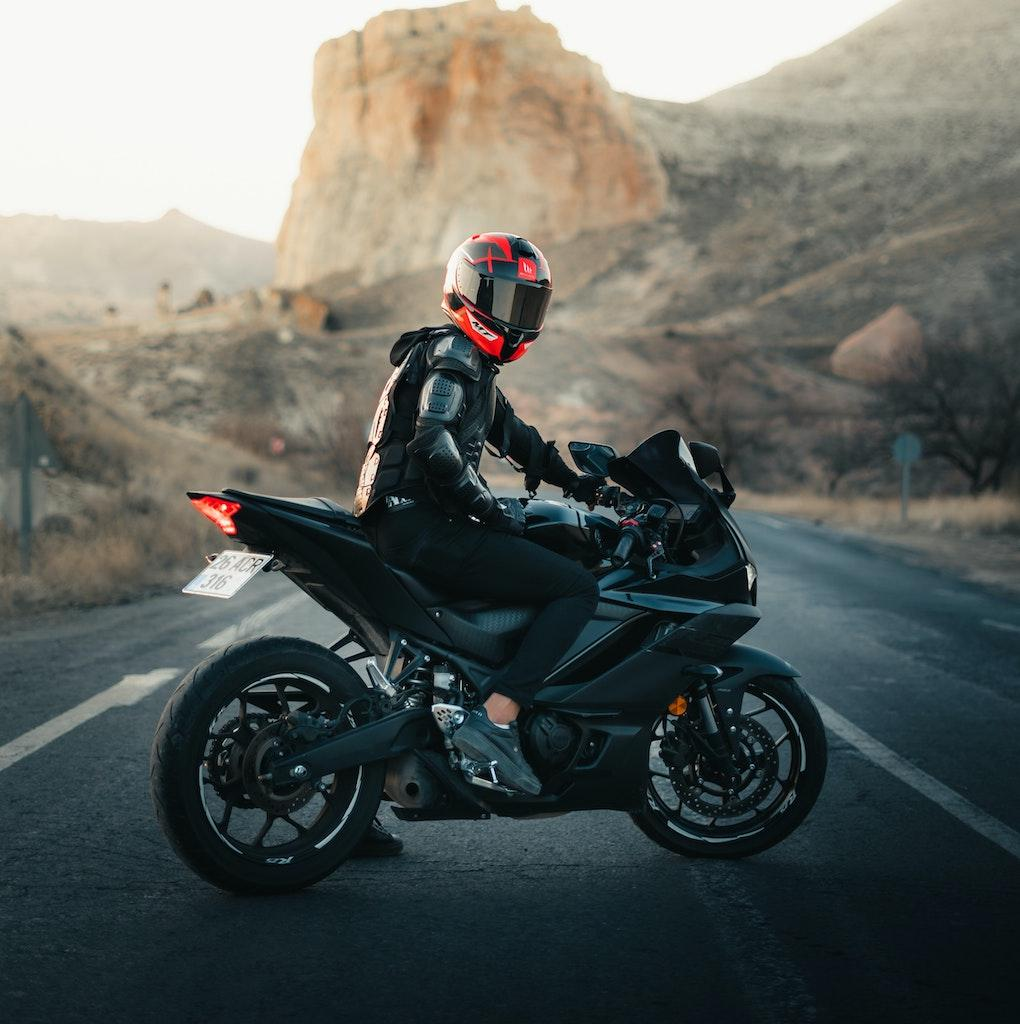helmet: (440, 230, 554, 366)
